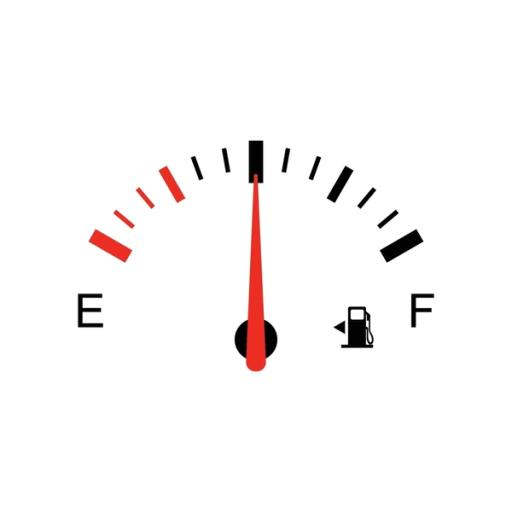empty: (72, 287, 106, 335)
fuel_icon: (330, 304, 380, 352)
full: (408, 289, 436, 330)
guage_area: (66, 132, 445, 377)
needle_center: (229, 311, 287, 361)
needle_tip: (243, 172, 264, 208)
